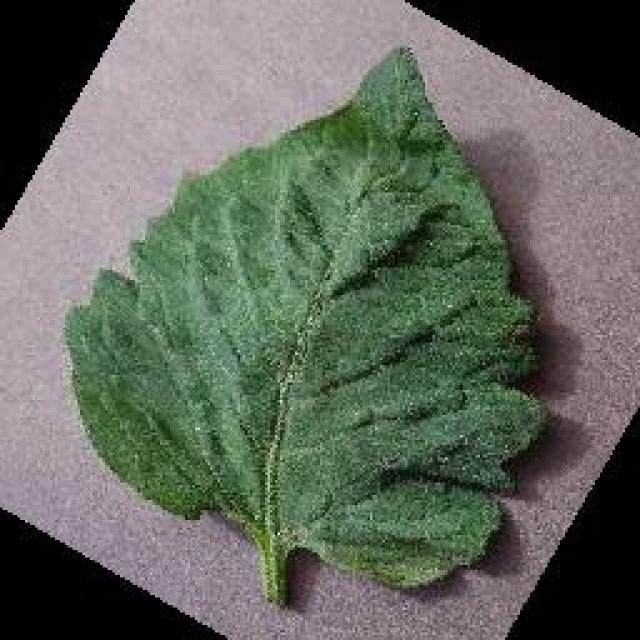Tomato___Target_Spot: (68, 50, 545, 600)
